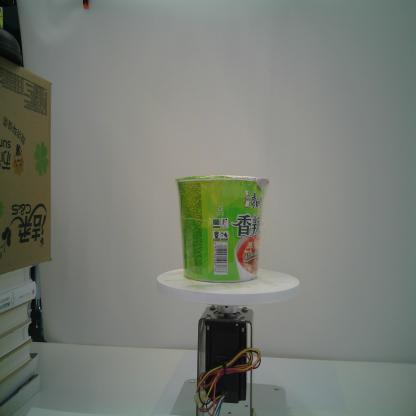Instant Noodles: (175, 174, 271, 286)
